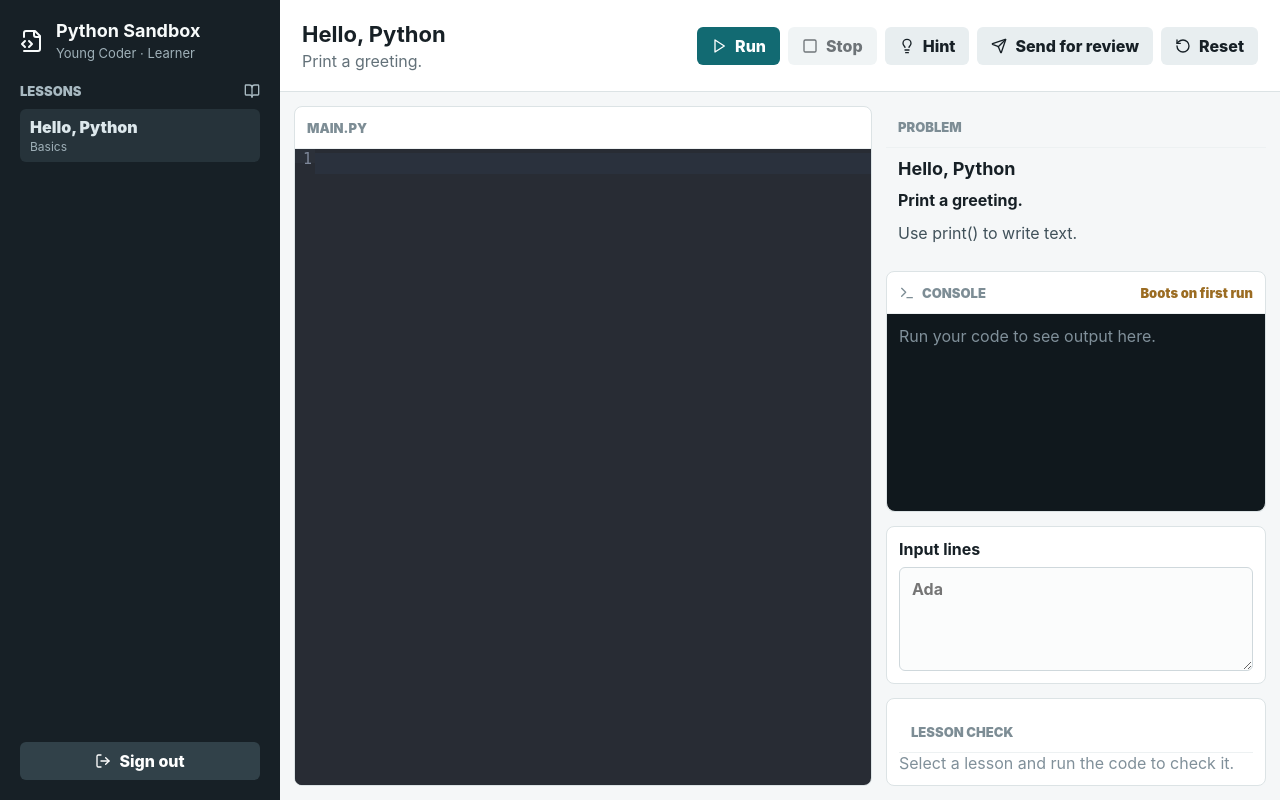
App › shows a console message when lesson checks fail after a successful run
The image size is (1280, 800).
Expected: the 1st heading "Hello, Python" is shown, 302,20 -> 446,46
Click the button "Run" at (739, 46), box 697,26 -> 780,64
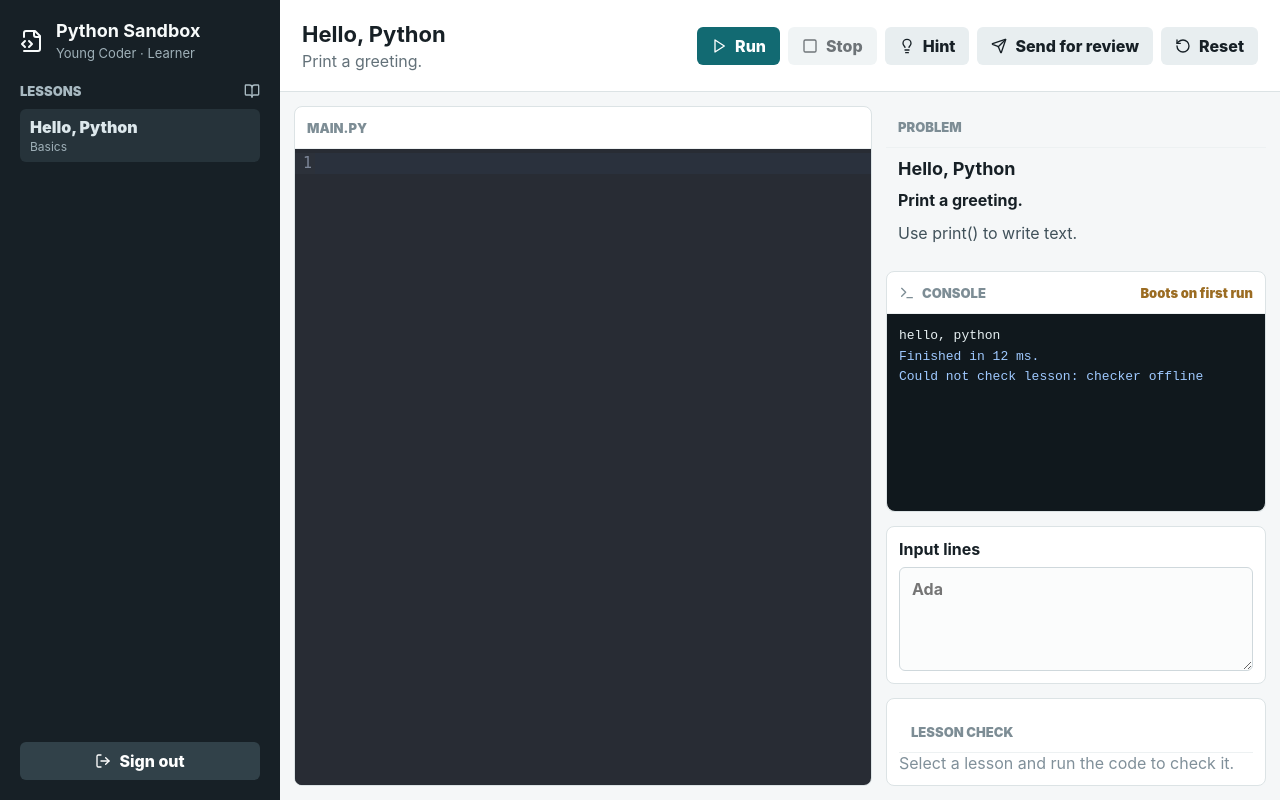
Now the text "Could not check lesson: checker offline" is shown, box 899,367 -> 1253,387
